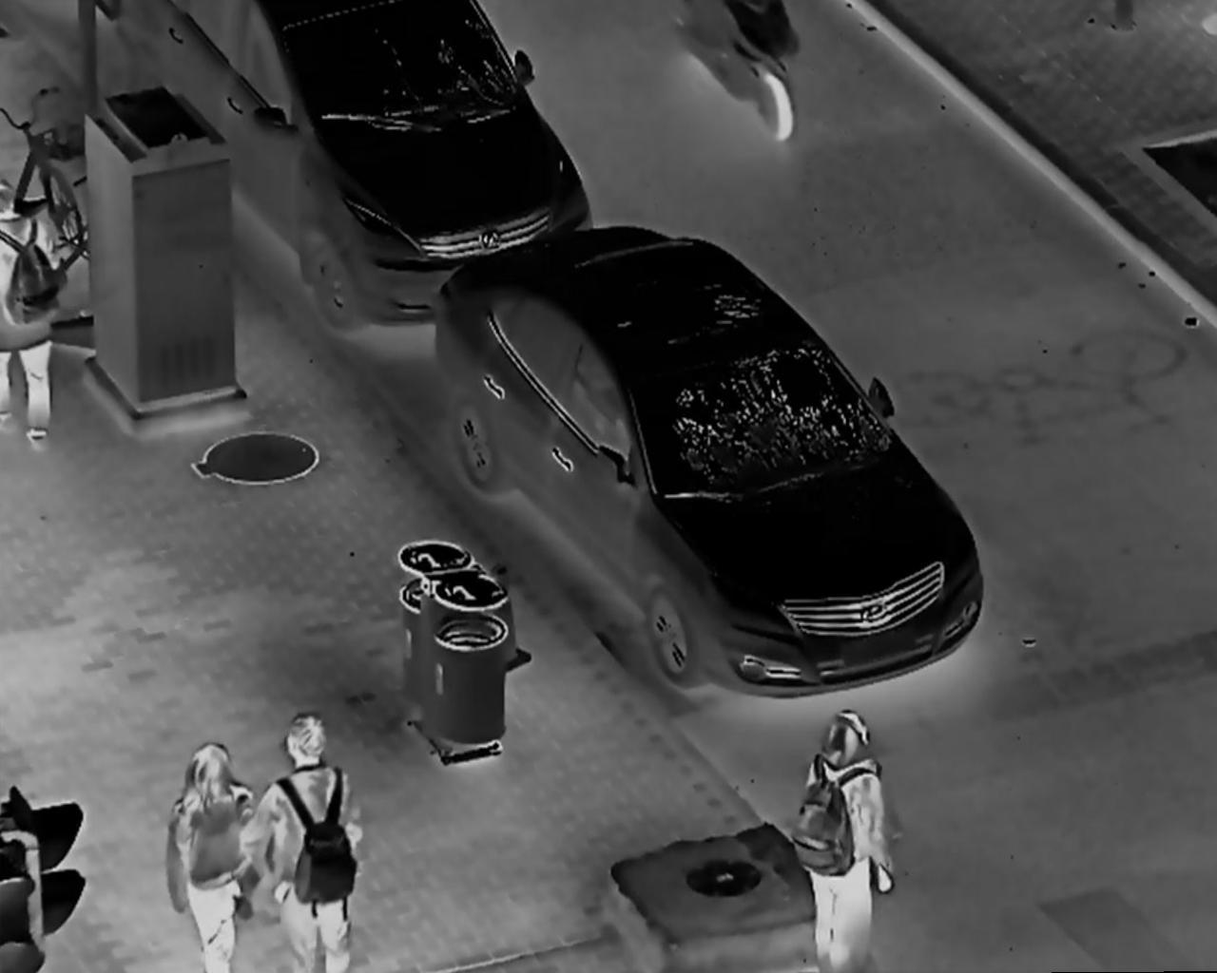person: (249, 713, 381, 973), (794, 704, 917, 973), (162, 743, 264, 973)
